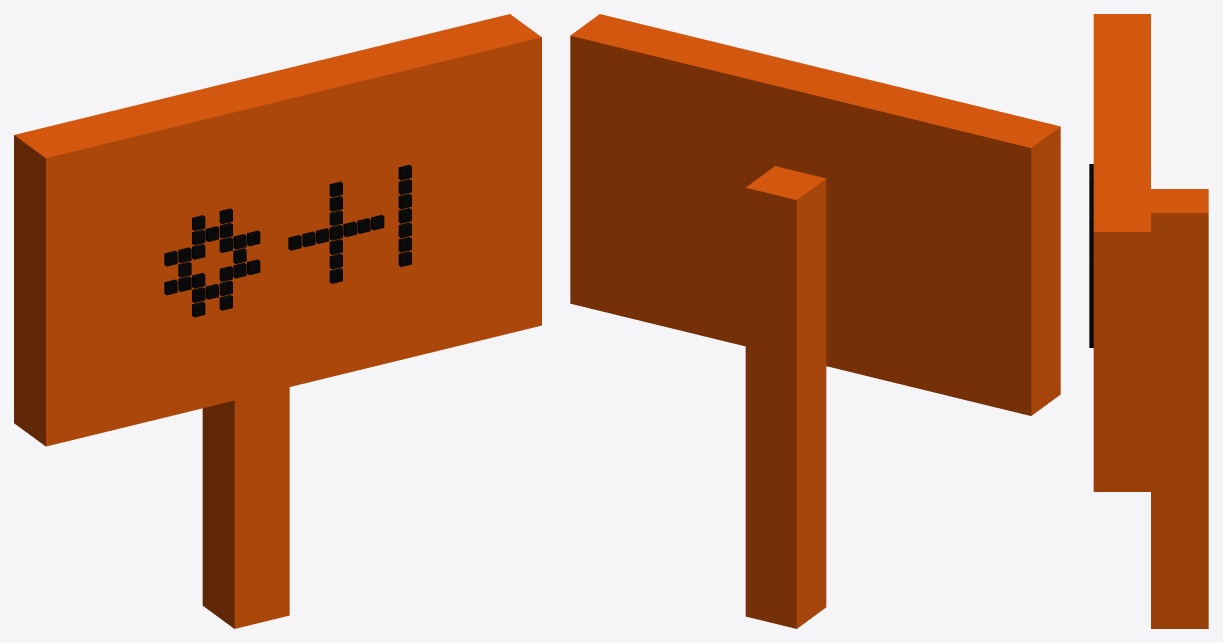
Rendered from ExpandTurnResource.fbx.
3 views of the same model, side by side, from view 1: azimuth 30°, elevation 25°; view 2: azimuth 150°, elevation 25°; view 3: azimuth 270°, elevation 25° (orthographic). The views are drawn at different scales.
Parts seen in each view (by area): view 1: 板, 杭; view 2: 板, 杭; view 3: 板, 杭.
Part boxes in pixels (<box>): 板: <box>14,14,541,446</box>; 杭: <box>202,387,289,628</box>; 板: <box>570,14,1060,415</box>; 杭: <box>745,166,826,628</box>; 板: <box>1093,14,1150,491</box>; 杭: <box>1151,189,1208,628</box>.
Size of the model in its own units: 180 by 190 by 41.5.
